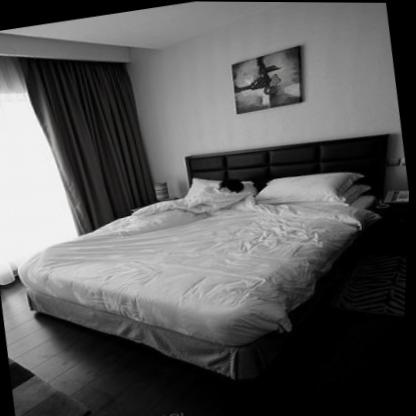Bed: (3, 123, 412, 398)
Curtains: (16, 59, 159, 234)
Frame: (225, 39, 312, 116)
